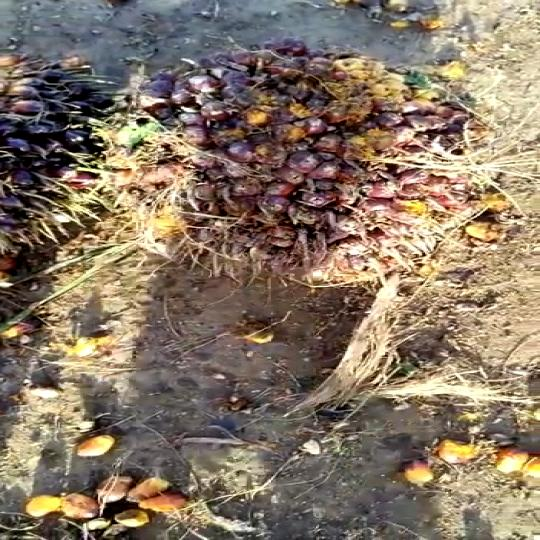masak: (93, 41, 540, 296)
